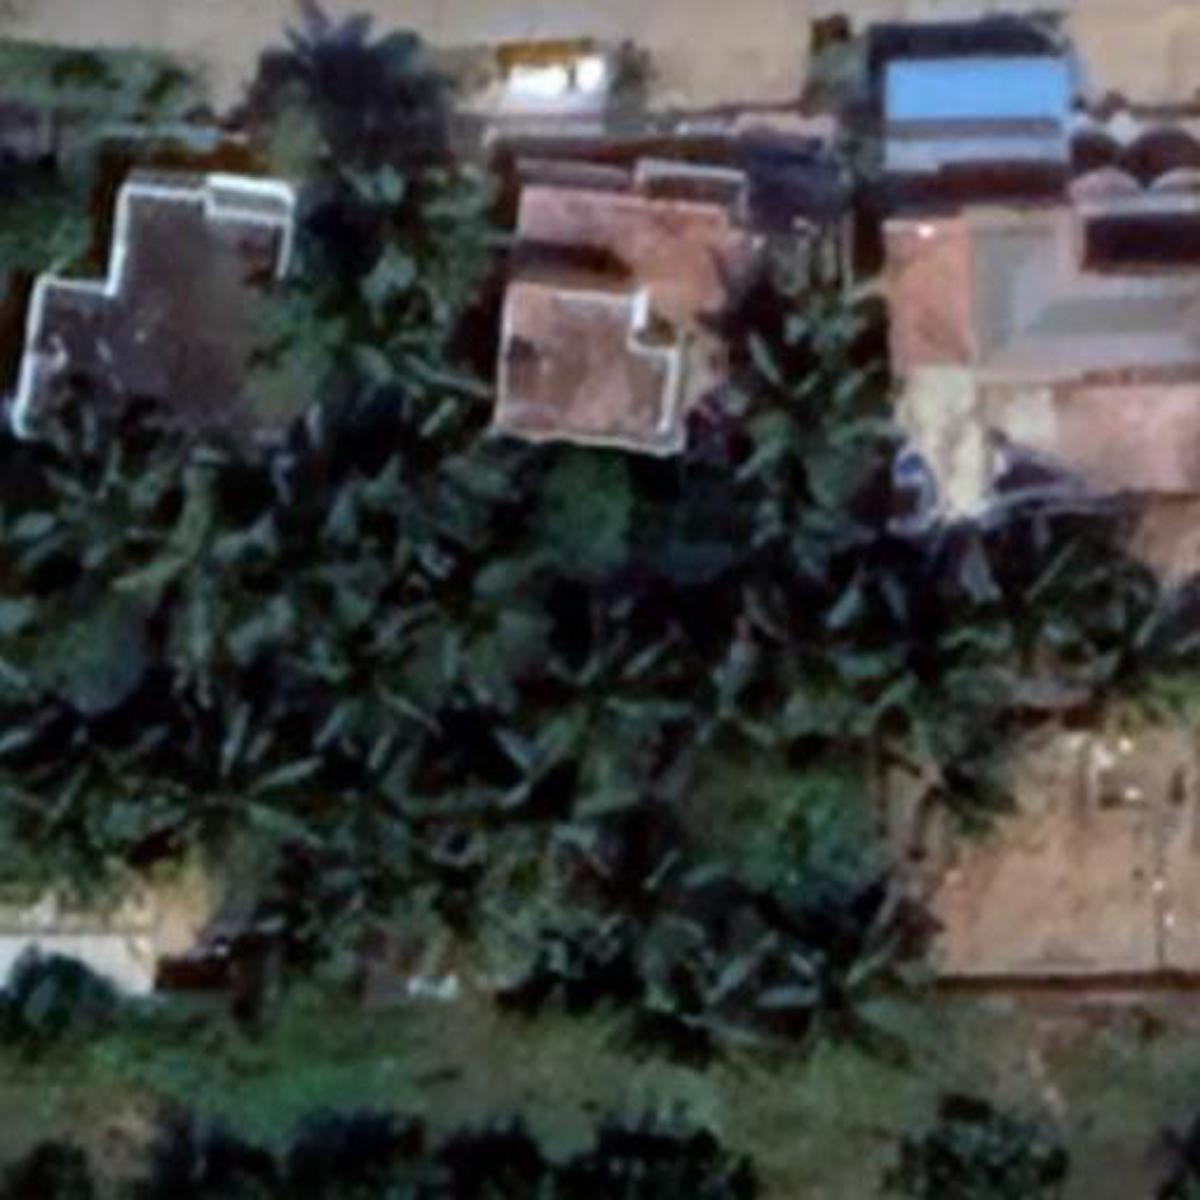coconut: (304, 157, 510, 338), (735, 316, 911, 505), (721, 562, 900, 740), (7, 410, 185, 588), (124, 468, 285, 663), (766, 925, 956, 1089), (311, 393, 505, 553), (585, 855, 766, 1021), (154, 705, 342, 860), (2, 691, 178, 853), (389, 538, 560, 700), (532, 632, 703, 792), (956, 527, 1116, 684), (316, 733, 480, 885), (876, 707, 1047, 851), (302, 571, 454, 707), (1092, 581, 1200, 749)
